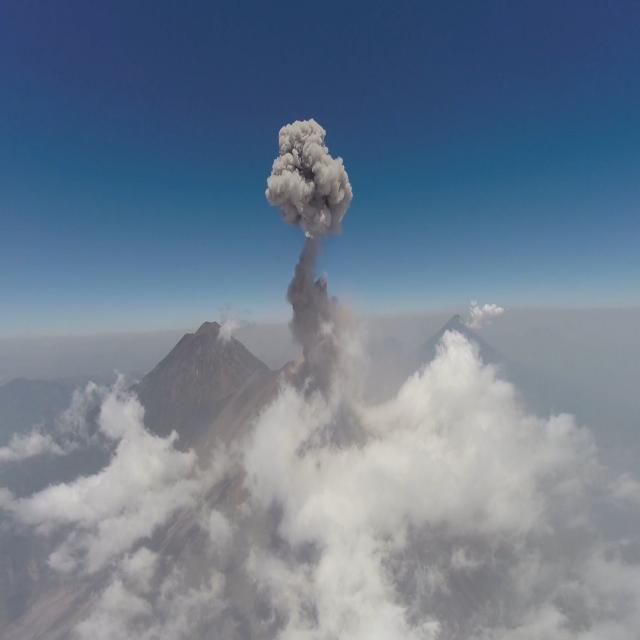Plume: (266, 116, 356, 373)
